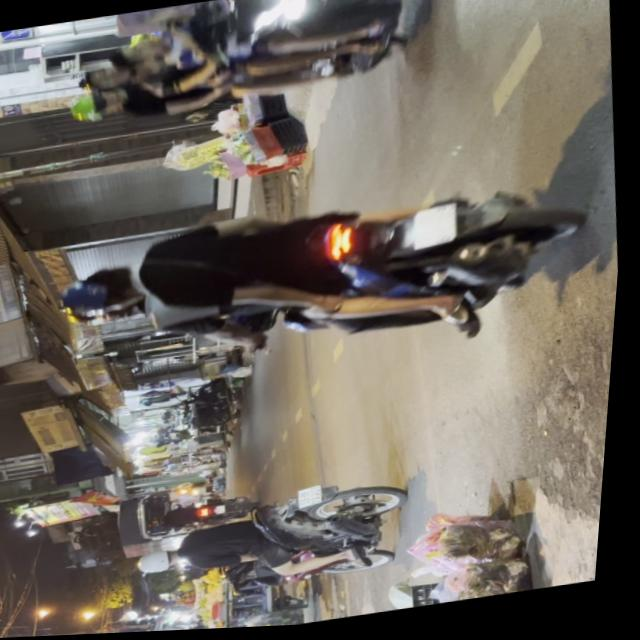helmet: (61, 261, 150, 319), (66, 83, 128, 125), (71, 59, 136, 95), (142, 549, 185, 576)
licenseplate: (50, 166, 613, 390), (53, 0, 451, 133), (131, 475, 423, 609)
motorcyclist: (105, 36, 175, 75)
nohelmet: (409, 206, 460, 252), (302, 488, 329, 511)
